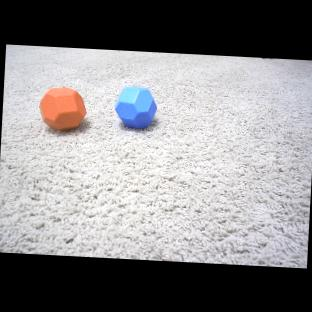V5_BLUE: (113, 85, 161, 131)
V5_RED: (38, 82, 89, 135)
